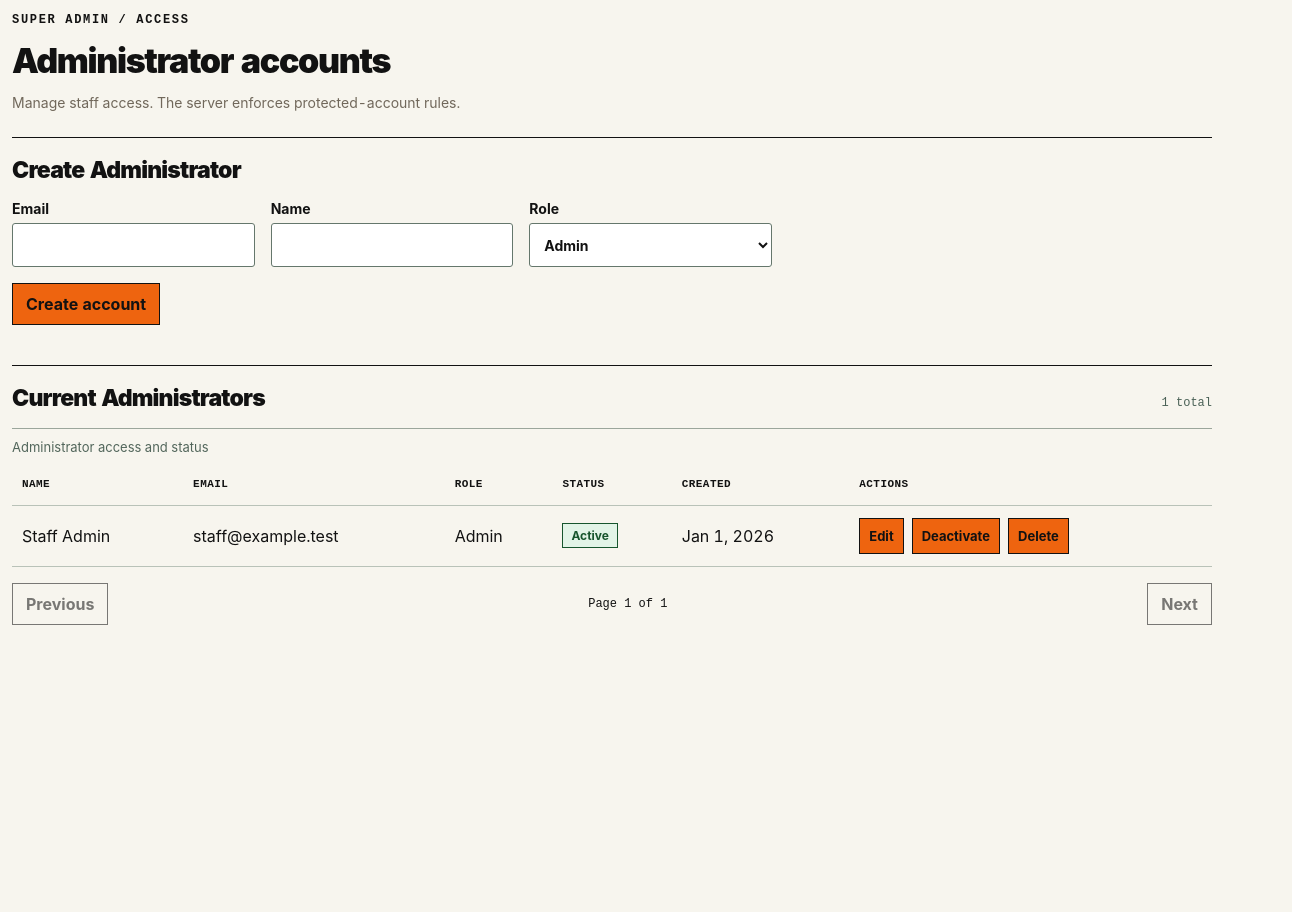
it: Super Admin account management › handles a concurrent account change with safe conflict copy
The image size is (1292, 912).
Expected: the text "staff@example.test" is shown, [183,505,445,566]
Click the button "Edit" at point(882, 536), box [859,518,904,554]
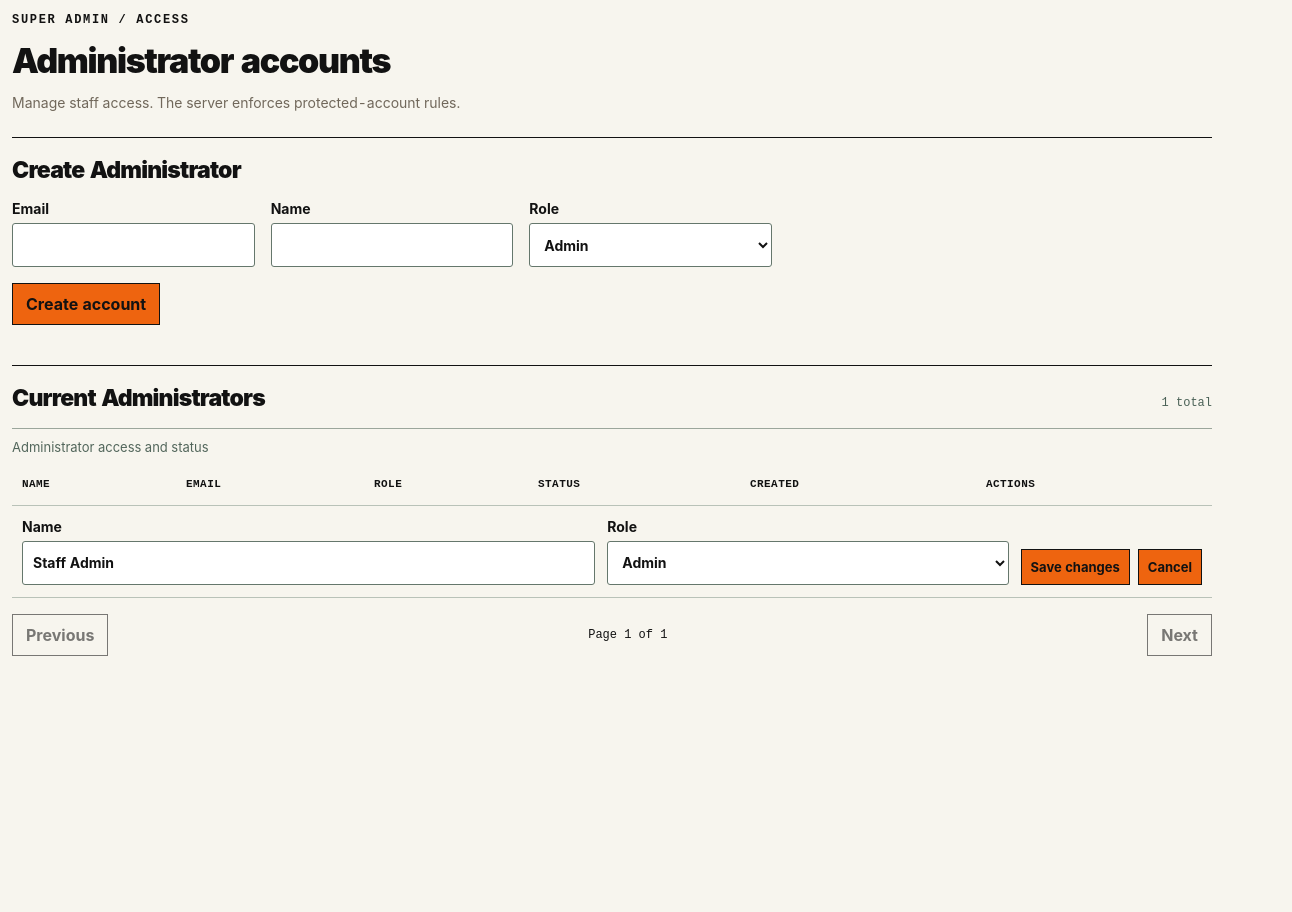
Replace the text in the field labelled "Name" below "Created" with "Updated Name" at point(309, 563), box [22,541,595,585]
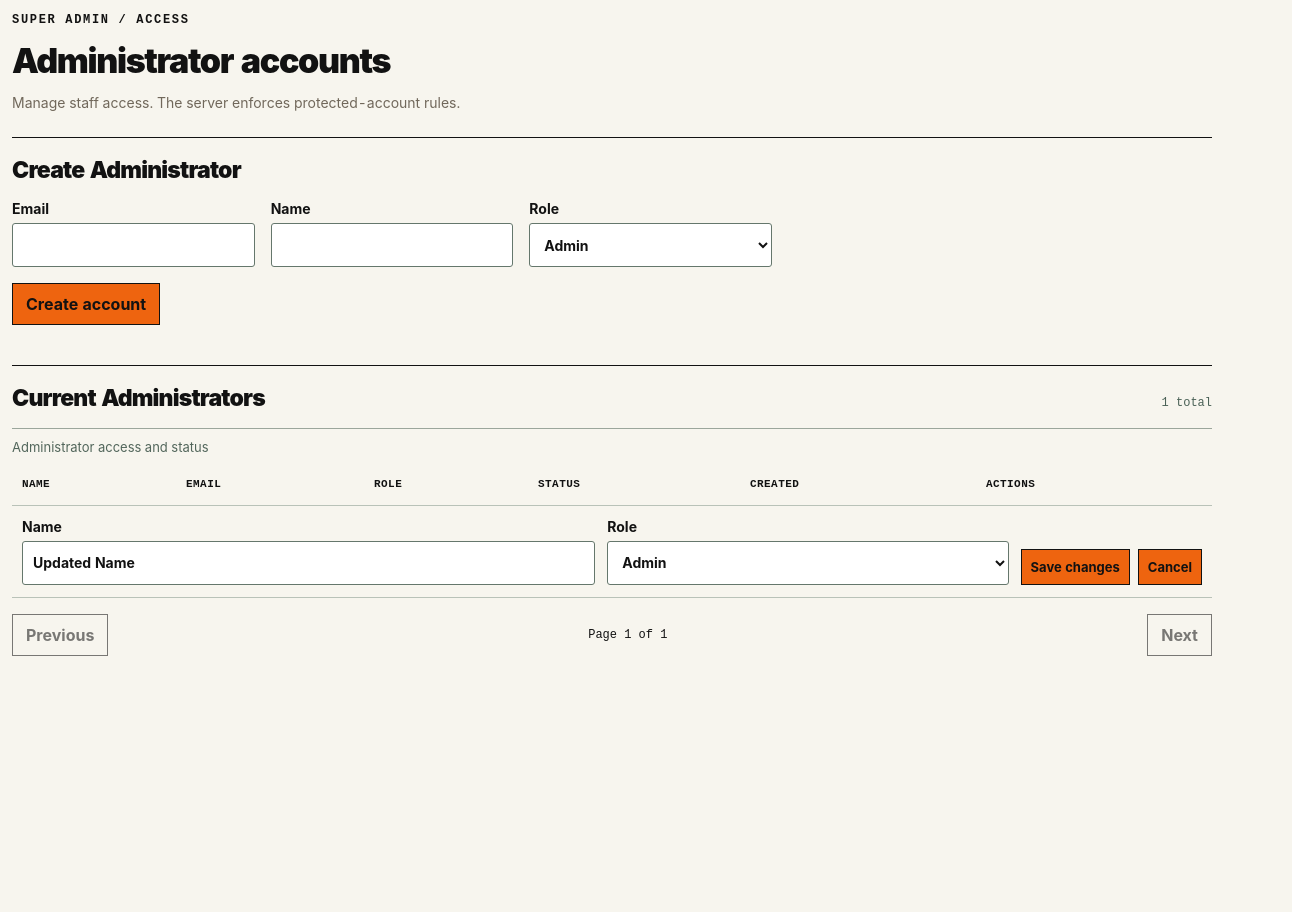
Click the button "Save changes" at point(1075, 567), box [1020,549,1130,585]
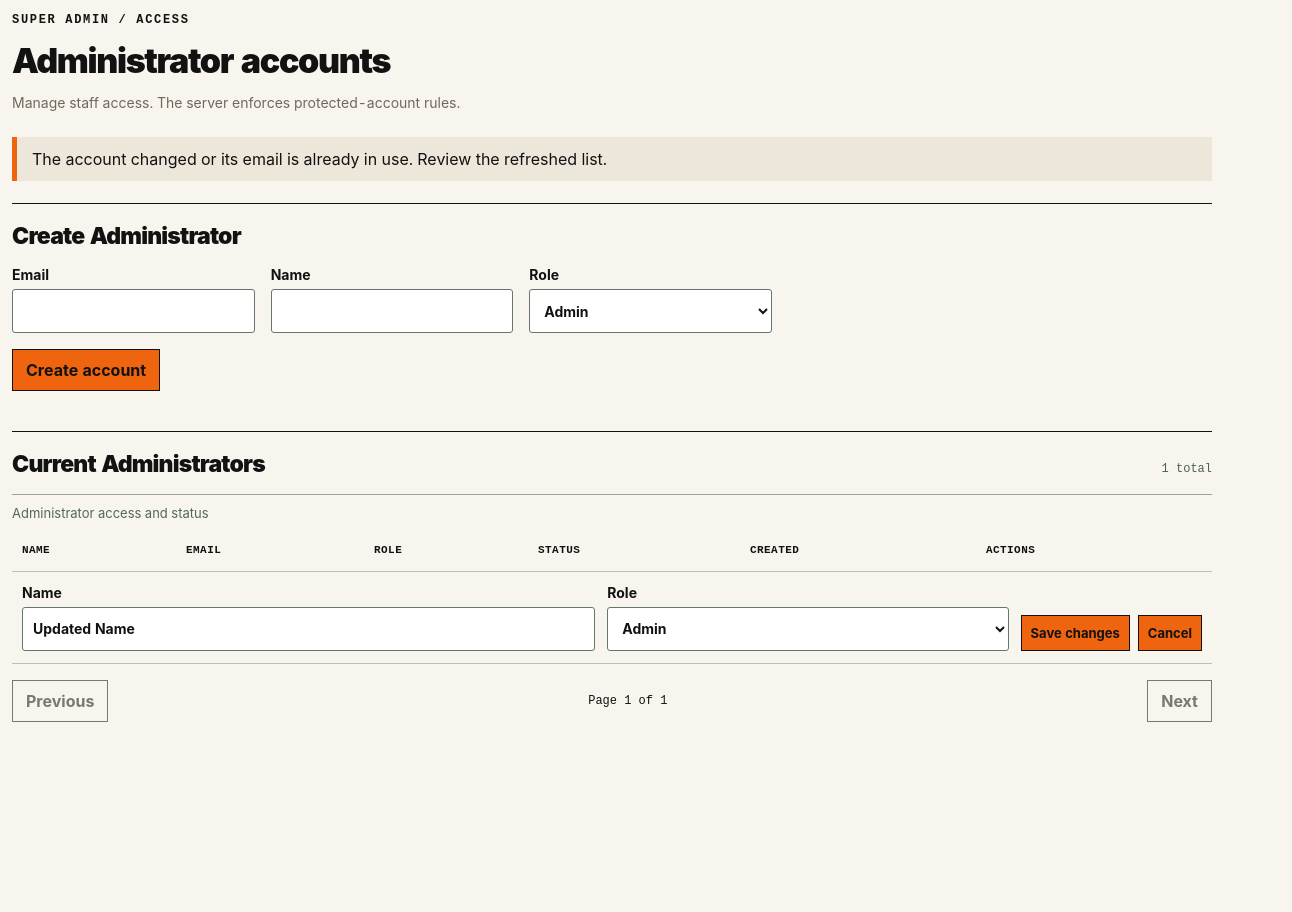
Result: the message shows "account changed or its email is already in use" at [32,149,607,169]
